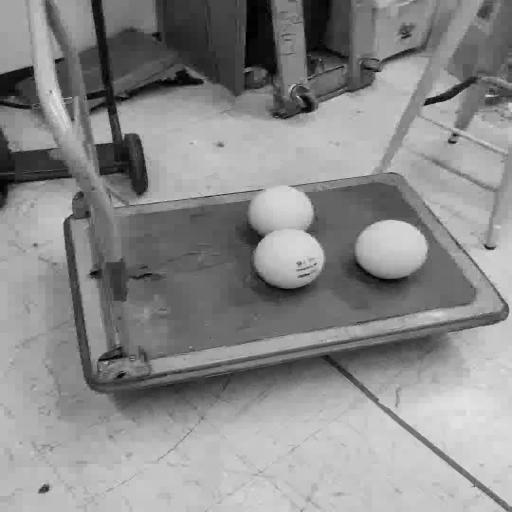fuel: (355, 220, 428, 279), (253, 230, 325, 289), (248, 186, 314, 237)
